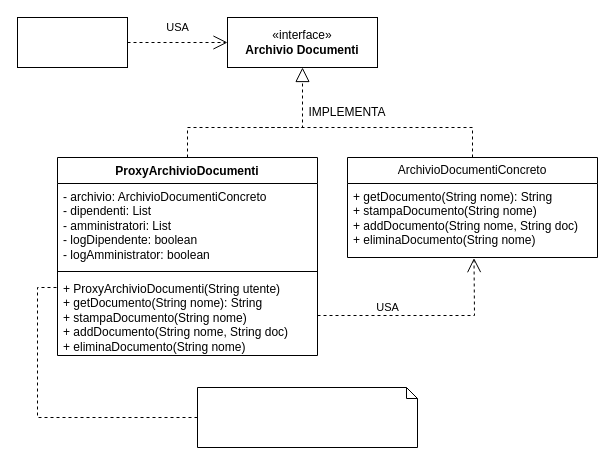
Image size: 615x465. Some labels were removed from this diagram. The shapes that lost their labels are listed below. From the top down, each one's box as (x1, y1, x2, y2) in pixels, then its label:
(16, 16, 128, 68): CLIENT
(196, 386, 418, 448): Controllo tipo di utente e set varibili booleane per abilitare i metodi
